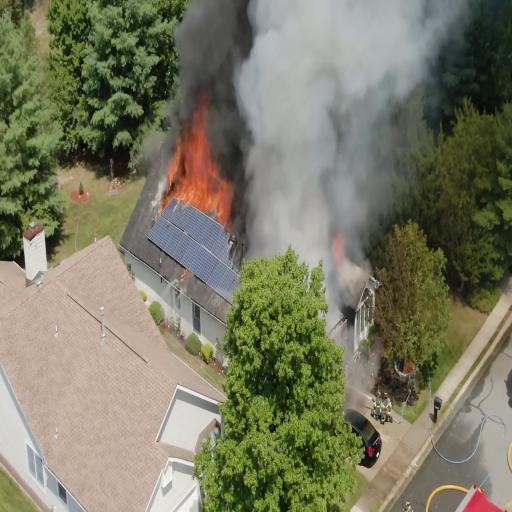fire: (164, 112, 232, 217)
smoke: (254, 0, 338, 256), (181, 2, 251, 106)
